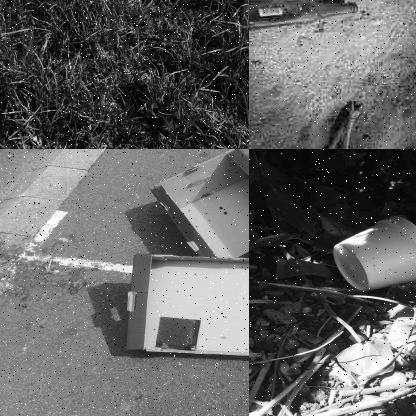cardboard: (123, 251, 248, 369), (162, 149, 248, 262)
plastic: (331, 214, 415, 292), (249, 0, 358, 29)
